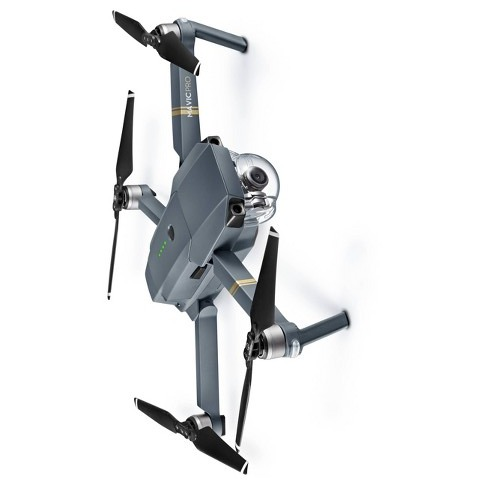drone: (105, 10, 349, 475)
